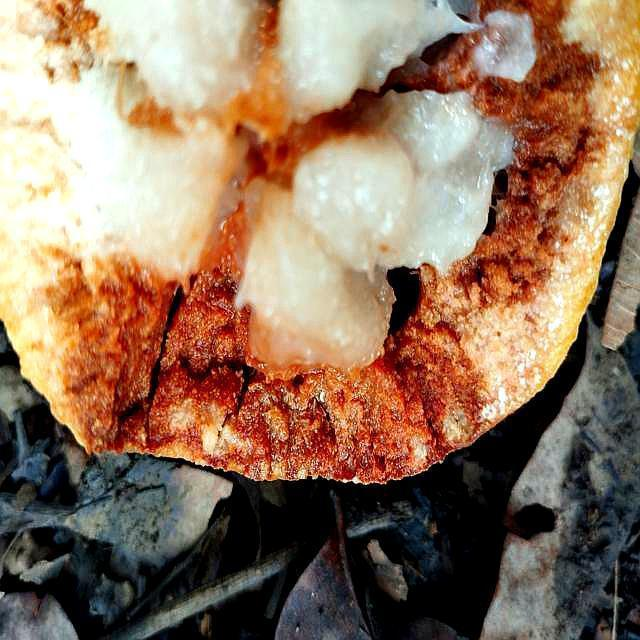Biodegradable: (1, 1, 640, 487)
